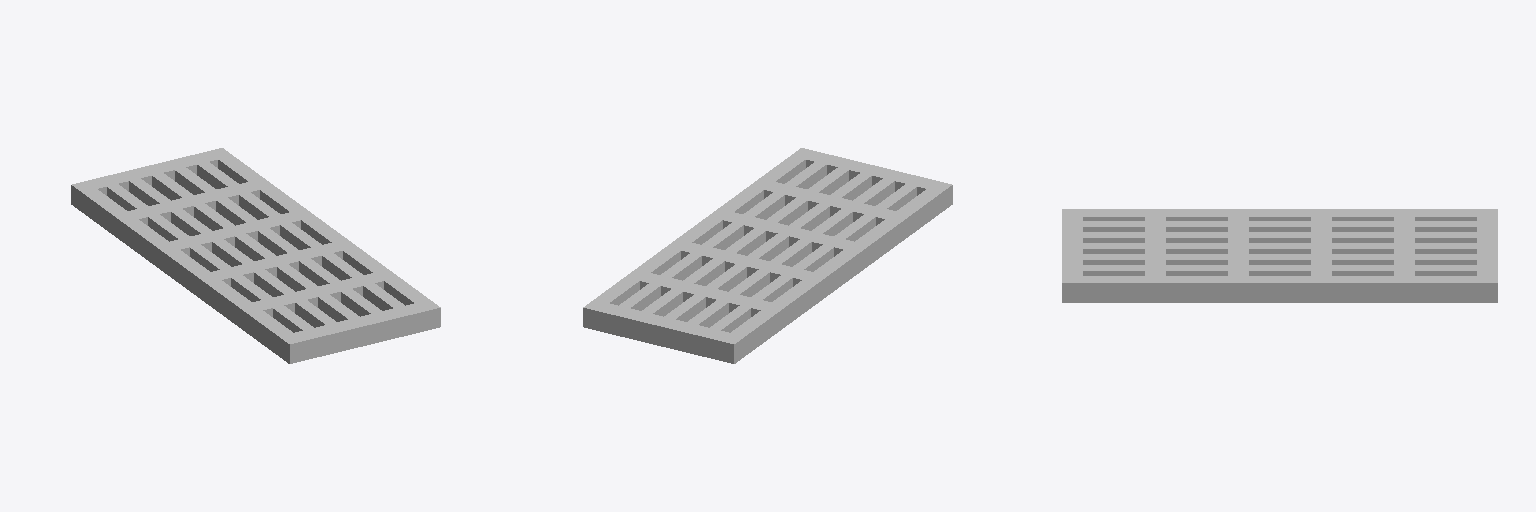
The model's file is Grate.obj.
The picture shows the model from 3 angles: view 1: azimuth 30°, elevation 25°; view 2: azimuth 150°, elevation 25°; view 3: azimuth 270°, elevation 25°; orthographic projection.
Parts seen in each view (by area): view 1: Grate_TextureTool.001; view 2: Grate_TextureTool.001; view 3: Grate_TextureTool.001.
Part boxes in pixels (x1,y1,x2,y2): Grate_TextureTool.001: (71,148,440,363); Grate_TextureTool.001: (583,148,952,363); Grate_TextureTool.001: (1062,209,1497,302).
Bounding box in the file's own units: 0.4 × 0.05 × 1.